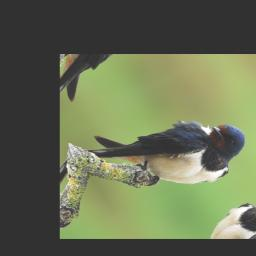Swallow: (79, 80, 256, 222)
